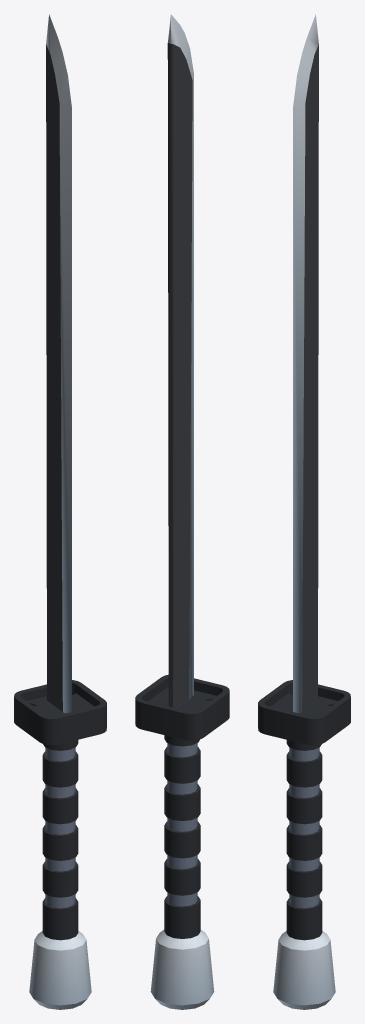
The model's file is lightsword.fbx.
3 views of the same model, side by side, from view 1: azimuth 30°, elevation 25°; view 2: azimuth 150°, elevation 25°; view 3: azimuth 330°, elevation 25° (orthographic).
Visible parts, largest first — view 1: Cube.001; view 2: Cube.001; view 3: Cube.001.
Boxes of the visible parts, x1,y1,x2,y2 form: Cube.001: (14,14,106,1009); Cube.001: (135,14,229,1009); Cube.001: (258,14,350,1009).
Size of the model in its own units: 611 by 8741 by 611.
Materials: 1 (1 with a texture image).
